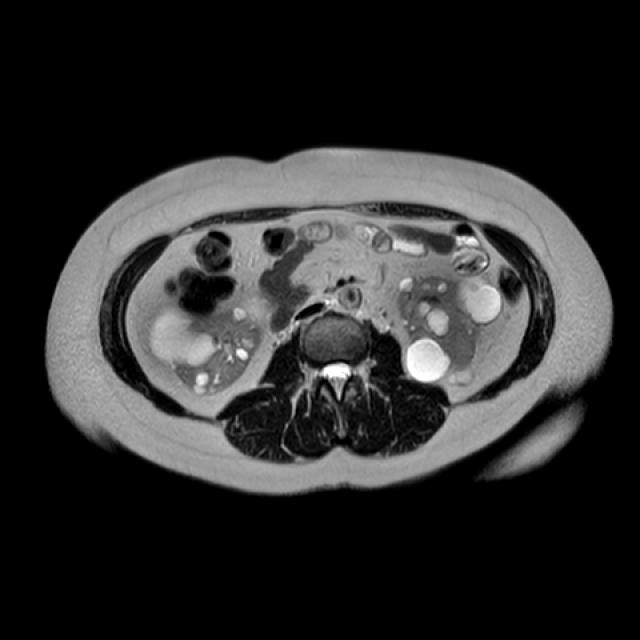sag: (144, 291, 277, 397)
sol: (395, 272, 505, 388)
